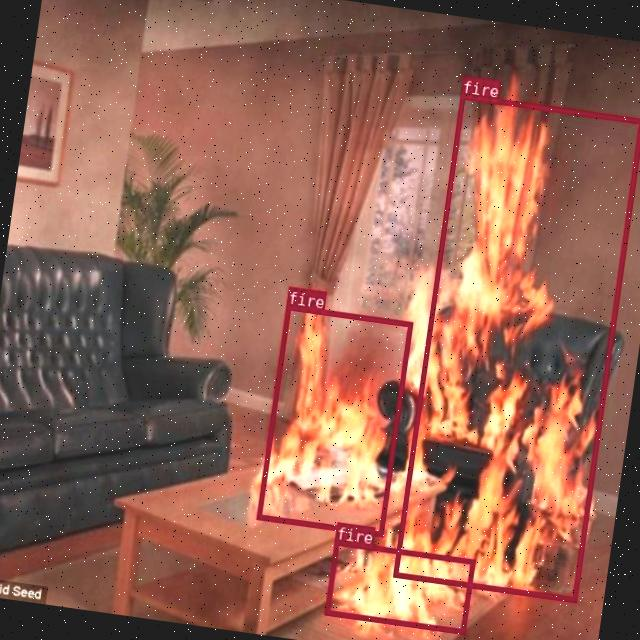fire: (392, 92, 640, 601), (256, 304, 412, 536), (324, 540, 474, 634)
